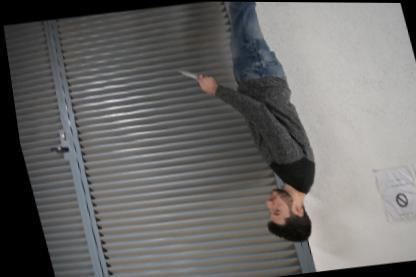knife: (172, 63, 210, 88)
